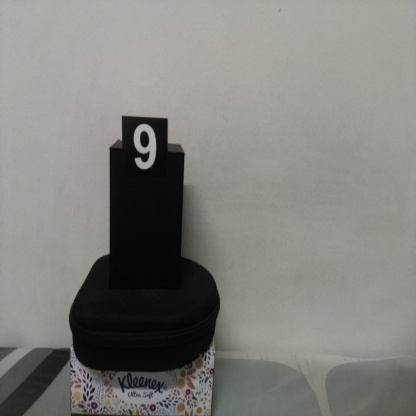id_9: (122, 116, 168, 186)
